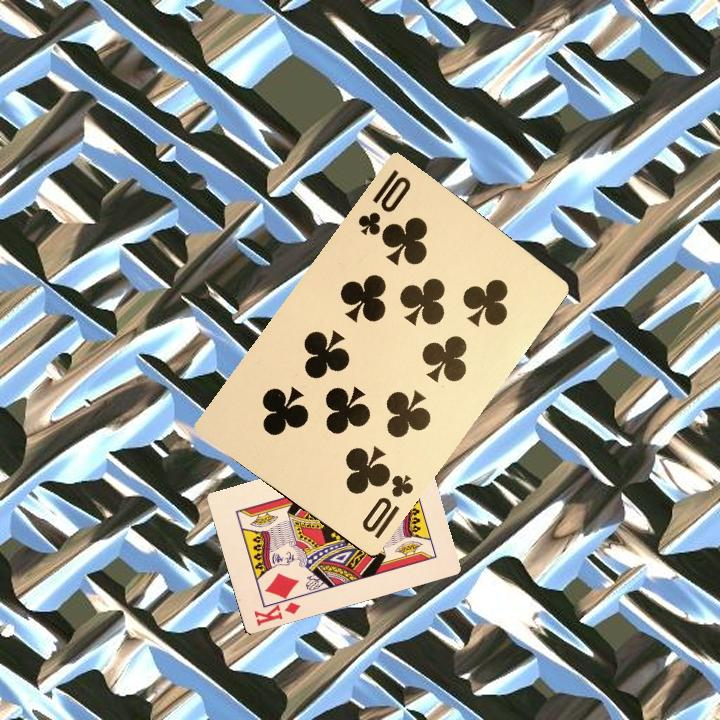10c: (353, 165, 414, 239), (357, 470, 417, 541)
Kd: (250, 592, 302, 629)
